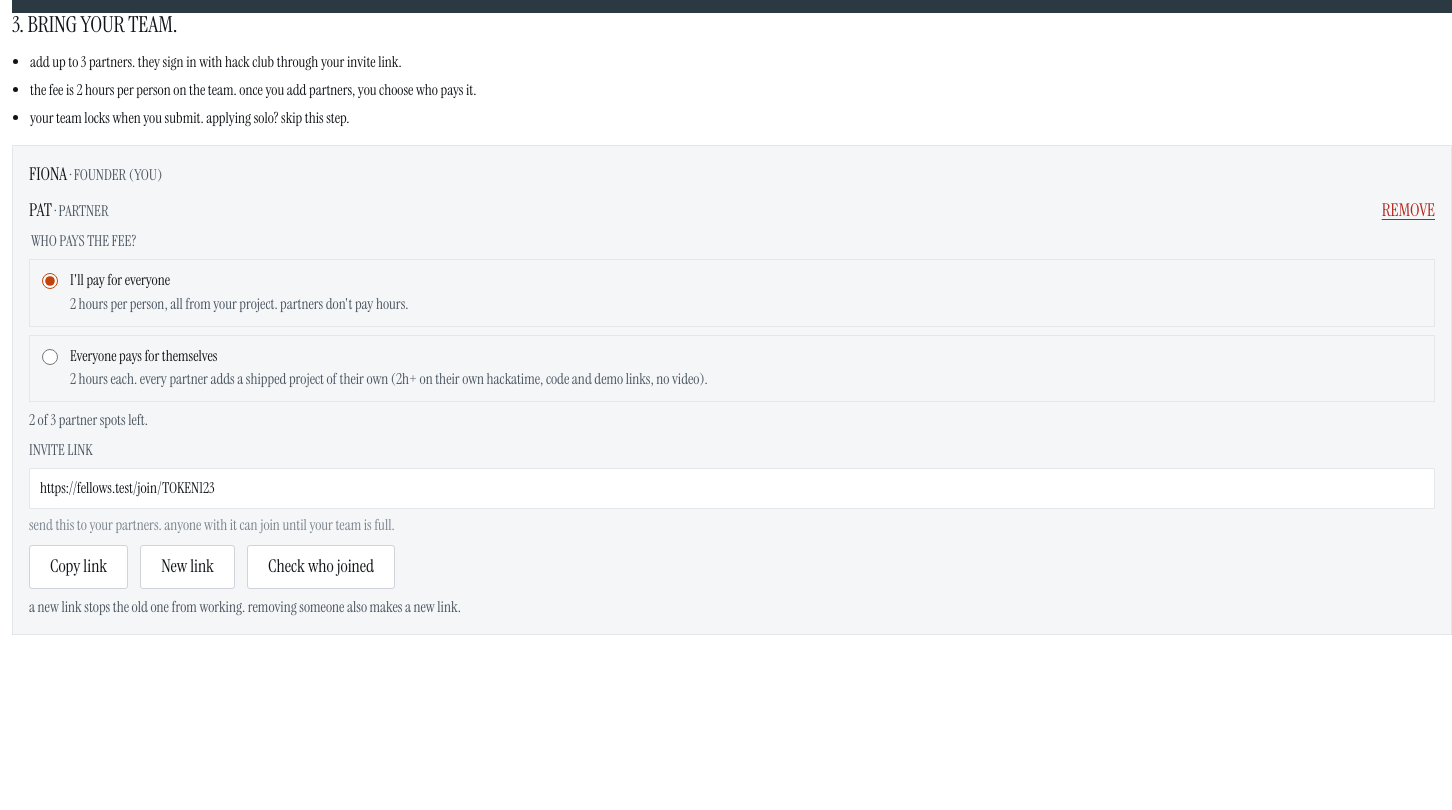
Team section contents › shows action errors
Click the button "New link" at (188, 567), box [140,545,235,589]
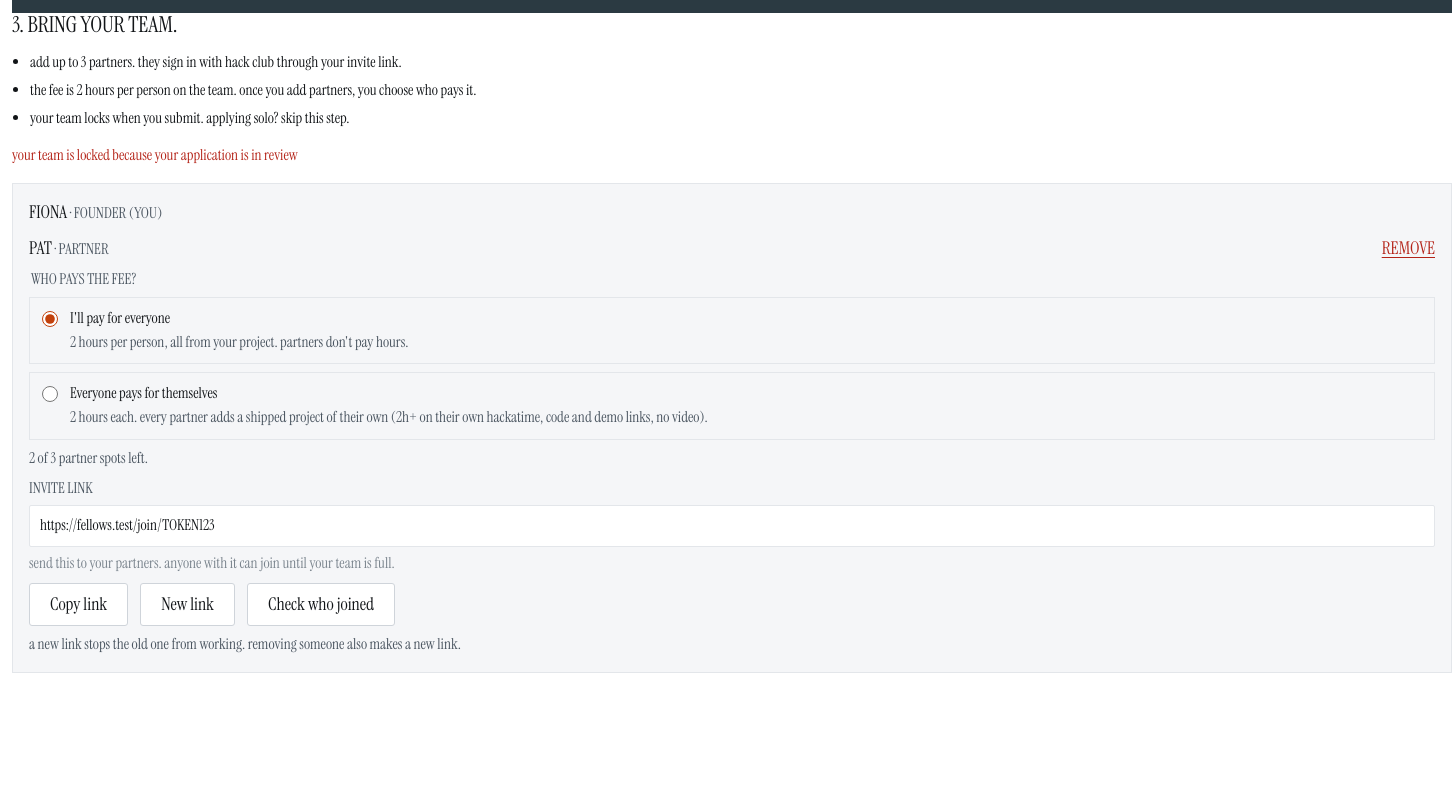
Now the message with test id "team-error" shows "locked", box [12,145,298,165]
